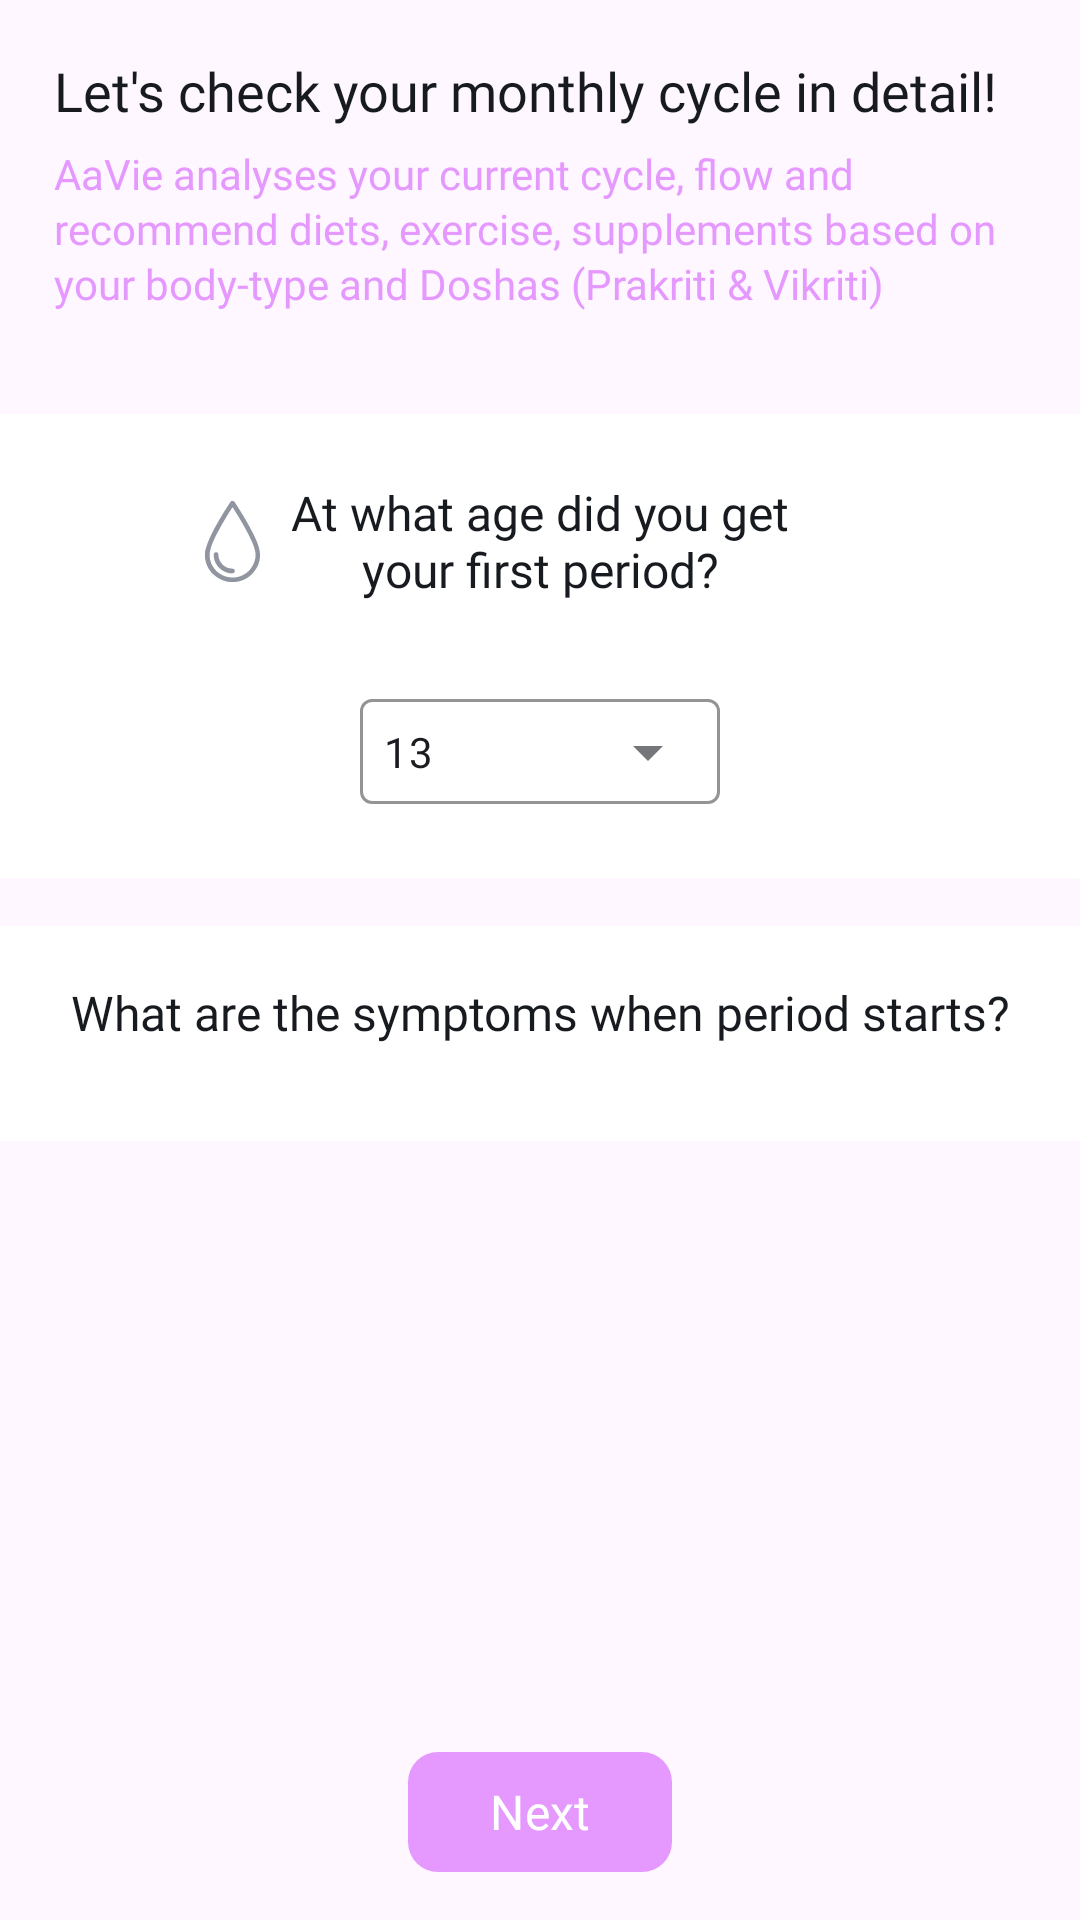

Screen size 1080×1920. Icon name, then its center in pixels as point (x, y):
drop of liquid: point (232, 541)
